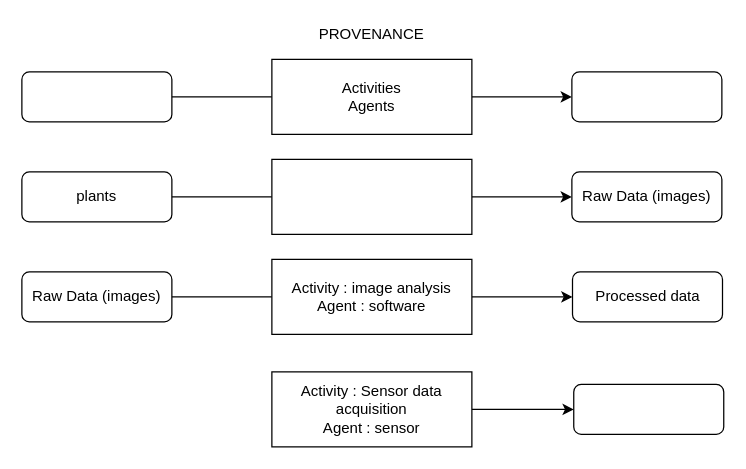
Some shapes in this 746 by 469 pixel diagram are drawn without their labels. Each missing label, with the box of its shape:
Activity : image acquisition Agent : camera: (271, 158, 472, 234)
Input Entity: (21, 71, 172, 122)
Output Entity: (571, 71, 722, 122)
Sensor data: (572, 383, 724, 434)
